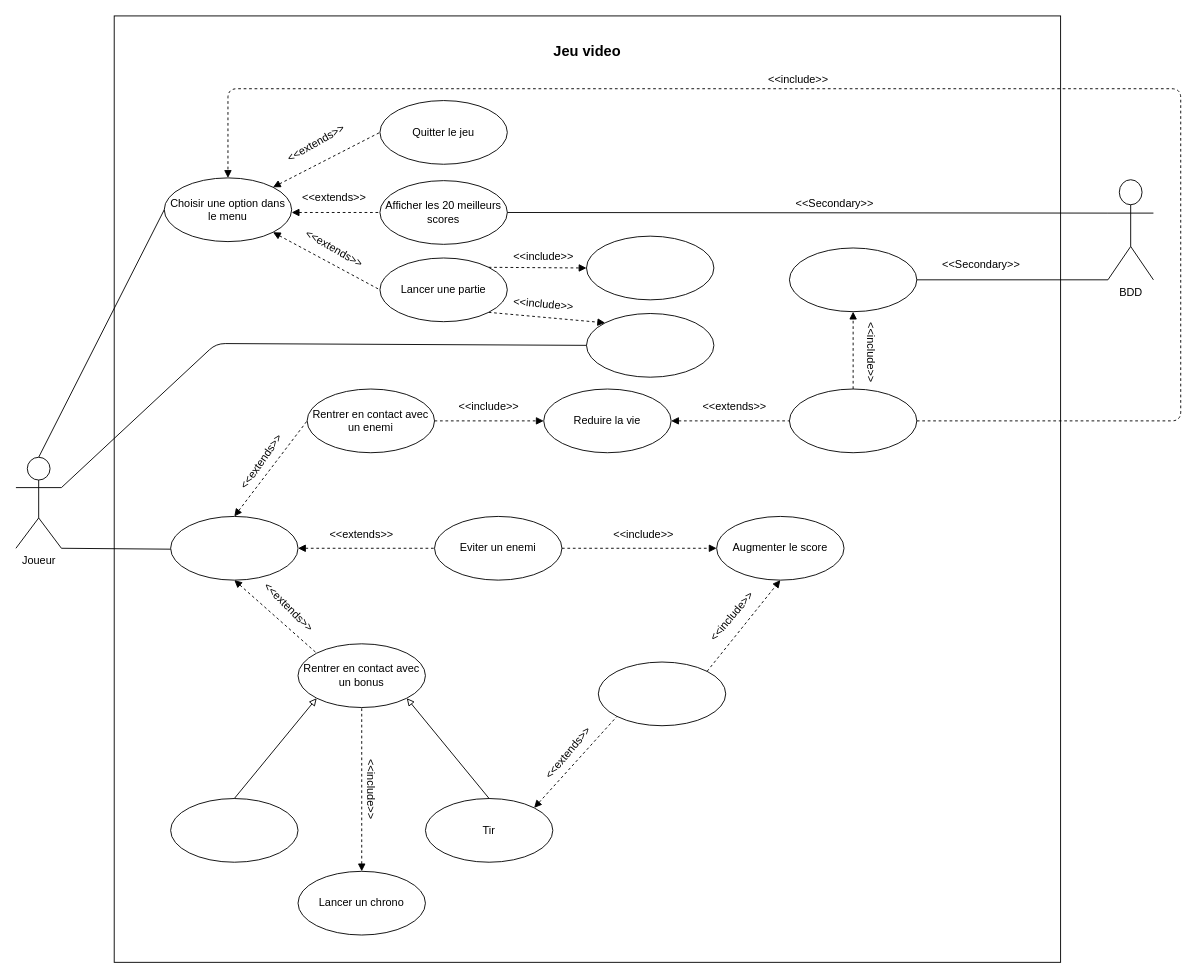
The diagram is 1204 pixels wide and 978 high, and some of its shapes have lost their labels. Each missing label, with the centre of its shape:
Afficher l'HUD: point 650,267
Bouclier: point 234,830
Déplacer le vaiseau: point 234,548
Entrer son nom: point 650,345
Perdre la partie: point 853,420
Sauvegarder le score: point 853,279
Toucher un enemi: point 661,693
